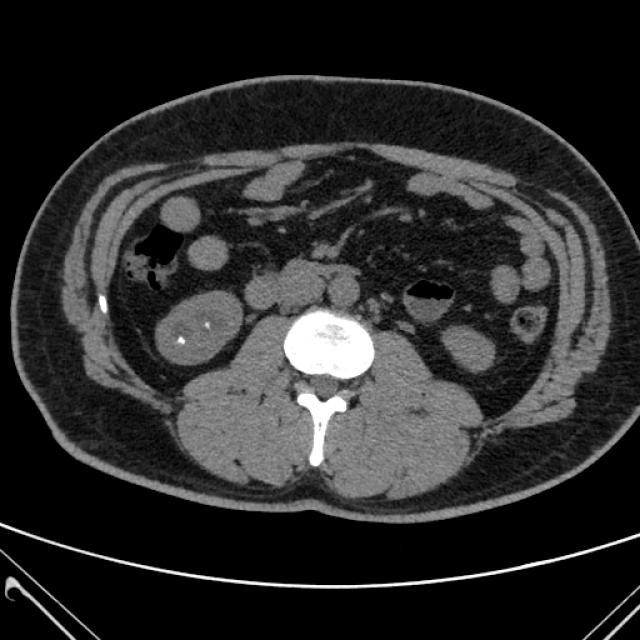kidney: (157, 294, 242, 364), (443, 327, 492, 372)
stone: (178, 336, 186, 345), (204, 321, 210, 330)
